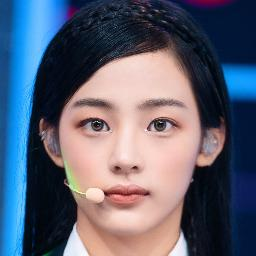face: (62, 59, 198, 235)
